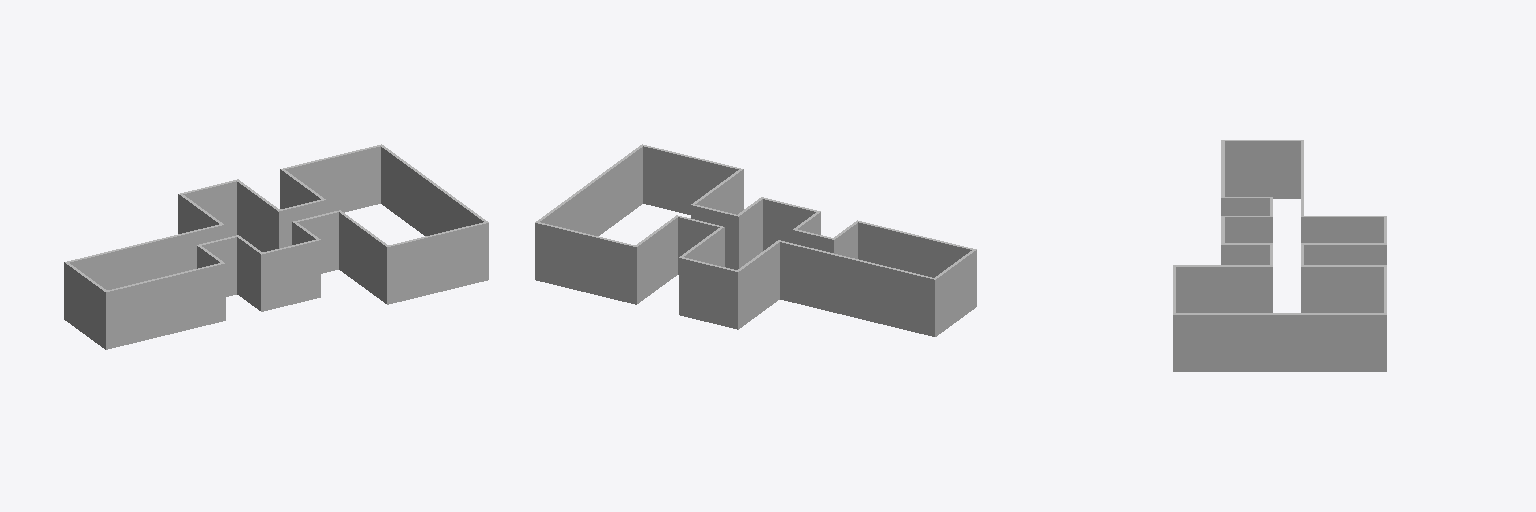
Rendered from rooms.obj.
The picture shows the model from 3 angles: view 1: azimuth 30°, elevation 25°; view 2: azimuth 150°, elevation 25°; view 3: azimuth 270°, elevation 25°; orthographic projection.
Visible parts, largest first — view 1: Plane; view 2: Plane; view 3: Plane.
Boxes of the visible parts, box(x1,y1,x2,y2) form: Plane: box(64, 144, 488, 349); Plane: box(535, 144, 976, 336); Plane: box(1173, 140, 1386, 371).
Bounding box in the file's own units: 6 × 0.9176 × 3.1.